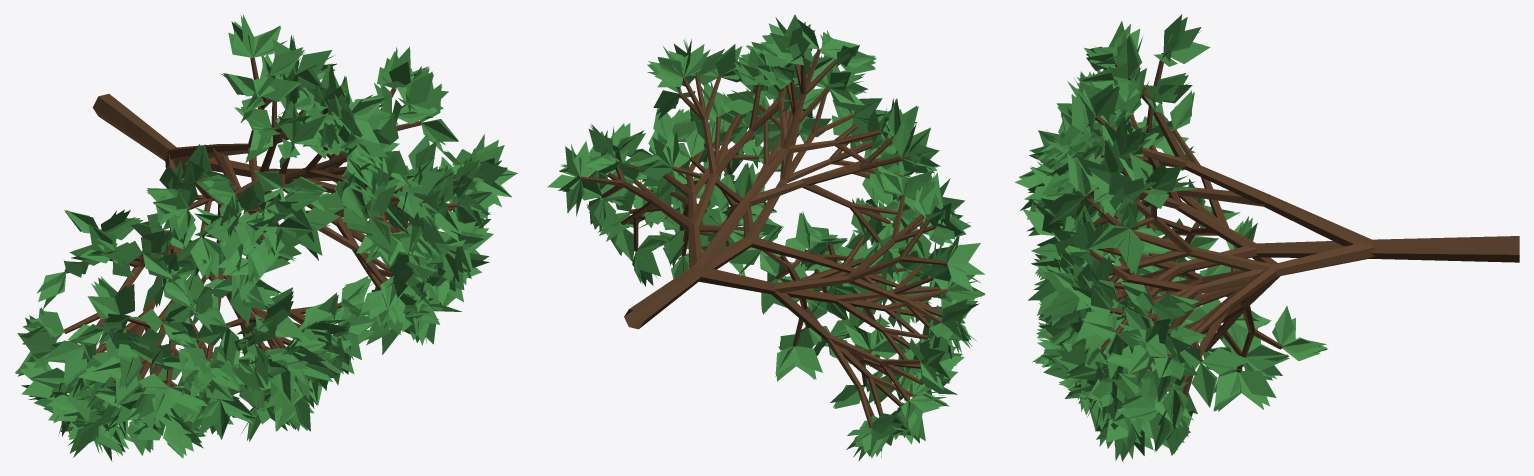
Rendered from default_seed1.obj.
3 views of the same model, side by side, from view 1: azimuth 30°, elevation 25°; view 2: azimuth 150°, elevation 25°; view 3: azimuth 270°, elevation 25° (orthographic). The views are drawn at different scales.
Size of the model in its own units: 3.89 by 3.39 by 3.39.
